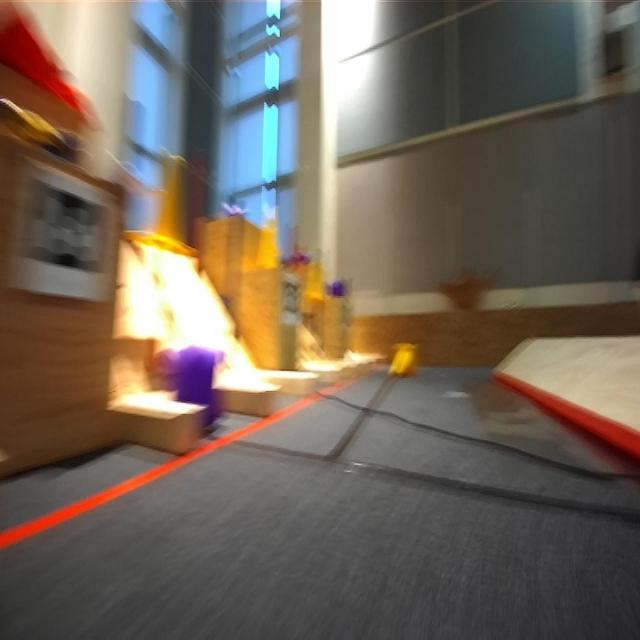frc_cone: (150, 164, 194, 254), (256, 208, 282, 270), (392, 339, 422, 377), (306, 258, 324, 305)
frc_cube: (171, 344, 216, 404), (328, 282, 348, 305), (288, 250, 308, 264)
